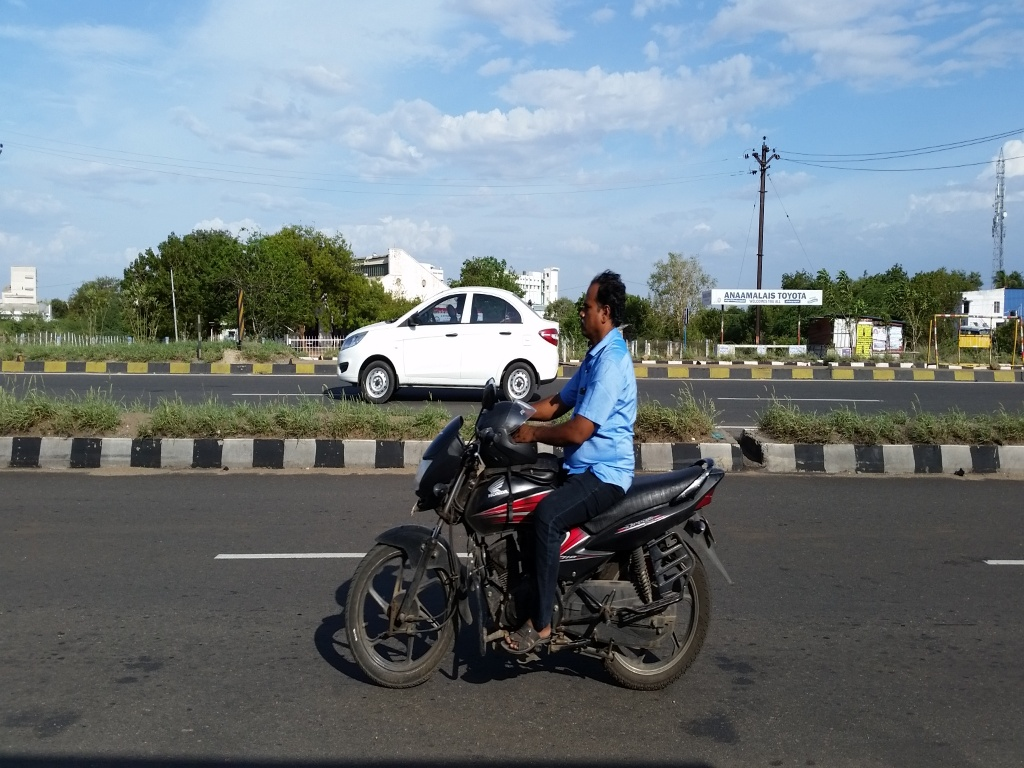biker: (326, 238, 747, 720)
nohelmet: (567, 256, 642, 366)
